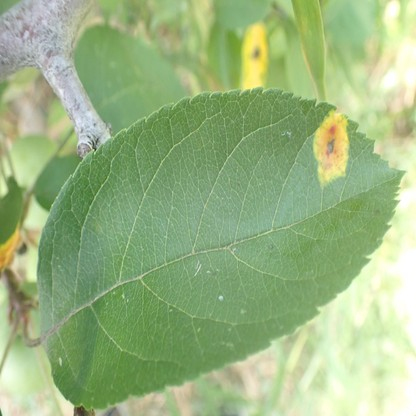rust: (313, 111, 349, 185)
